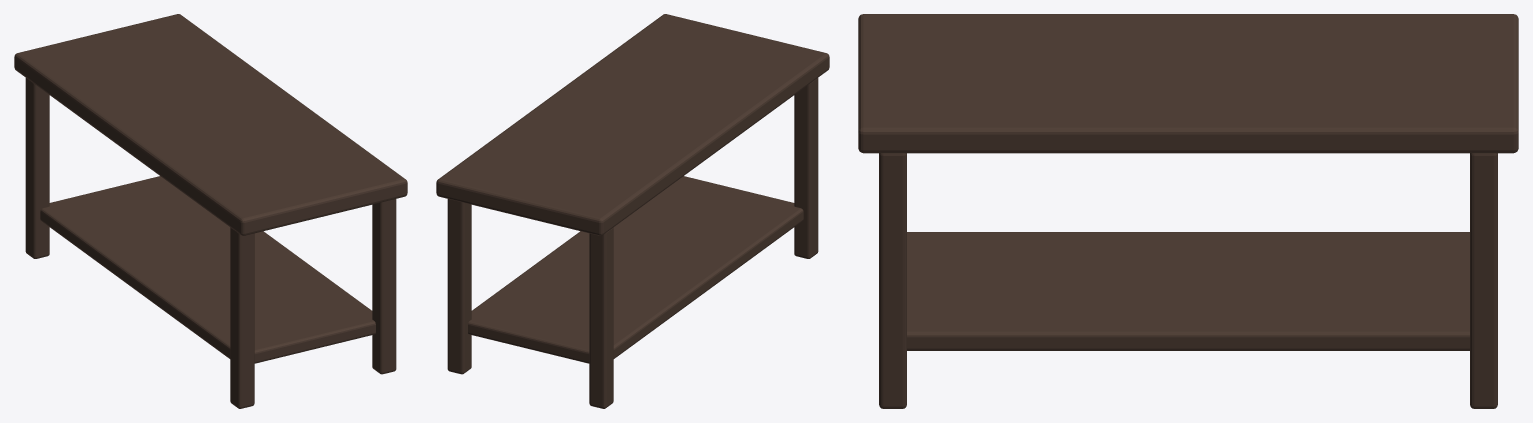
The model's file is operating_table_wood_slab.glb.
3 renders of one model, left to right at view 1: azimuth 30°, elevation 25°; view 2: azimuth 150°, elevation 25°; view 3: azimuth 270°, elevation 25°, orthographic. The views are drawn at different scales.
Parts seen in each view (by area): view 1: GD_operating_table_wood_slab__m0; view 2: GD_operating_table_wood_slab__m0; view 3: GD_operating_table_wood_slab__m0.
Part boxes in pixels (<box>): GD_operating_table_wood_slab__m0: <box>14,14,407,408</box>; GD_operating_table_wood_slab__m0: <box>436,14,829,408</box>; GD_operating_table_wood_slab__m0: <box>858,14,1518,408</box>.
Bounding box in the file's own units: 0.8 × 0.9 × 1.9.
